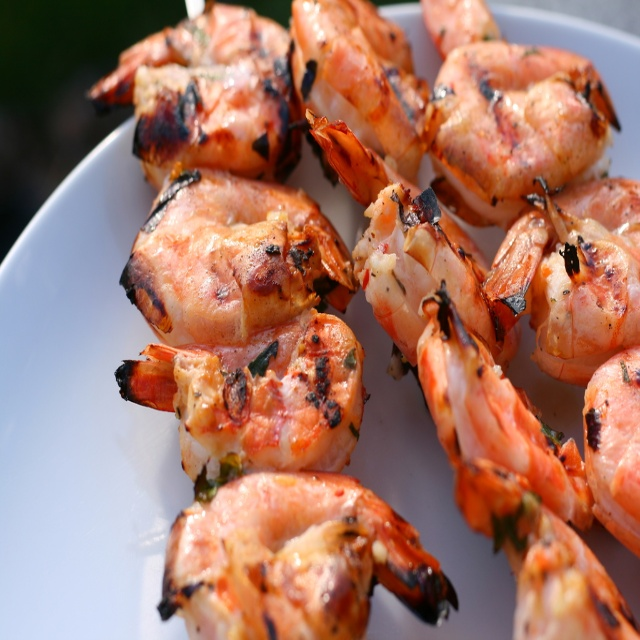Shrimp: (84, 0, 640, 640)
